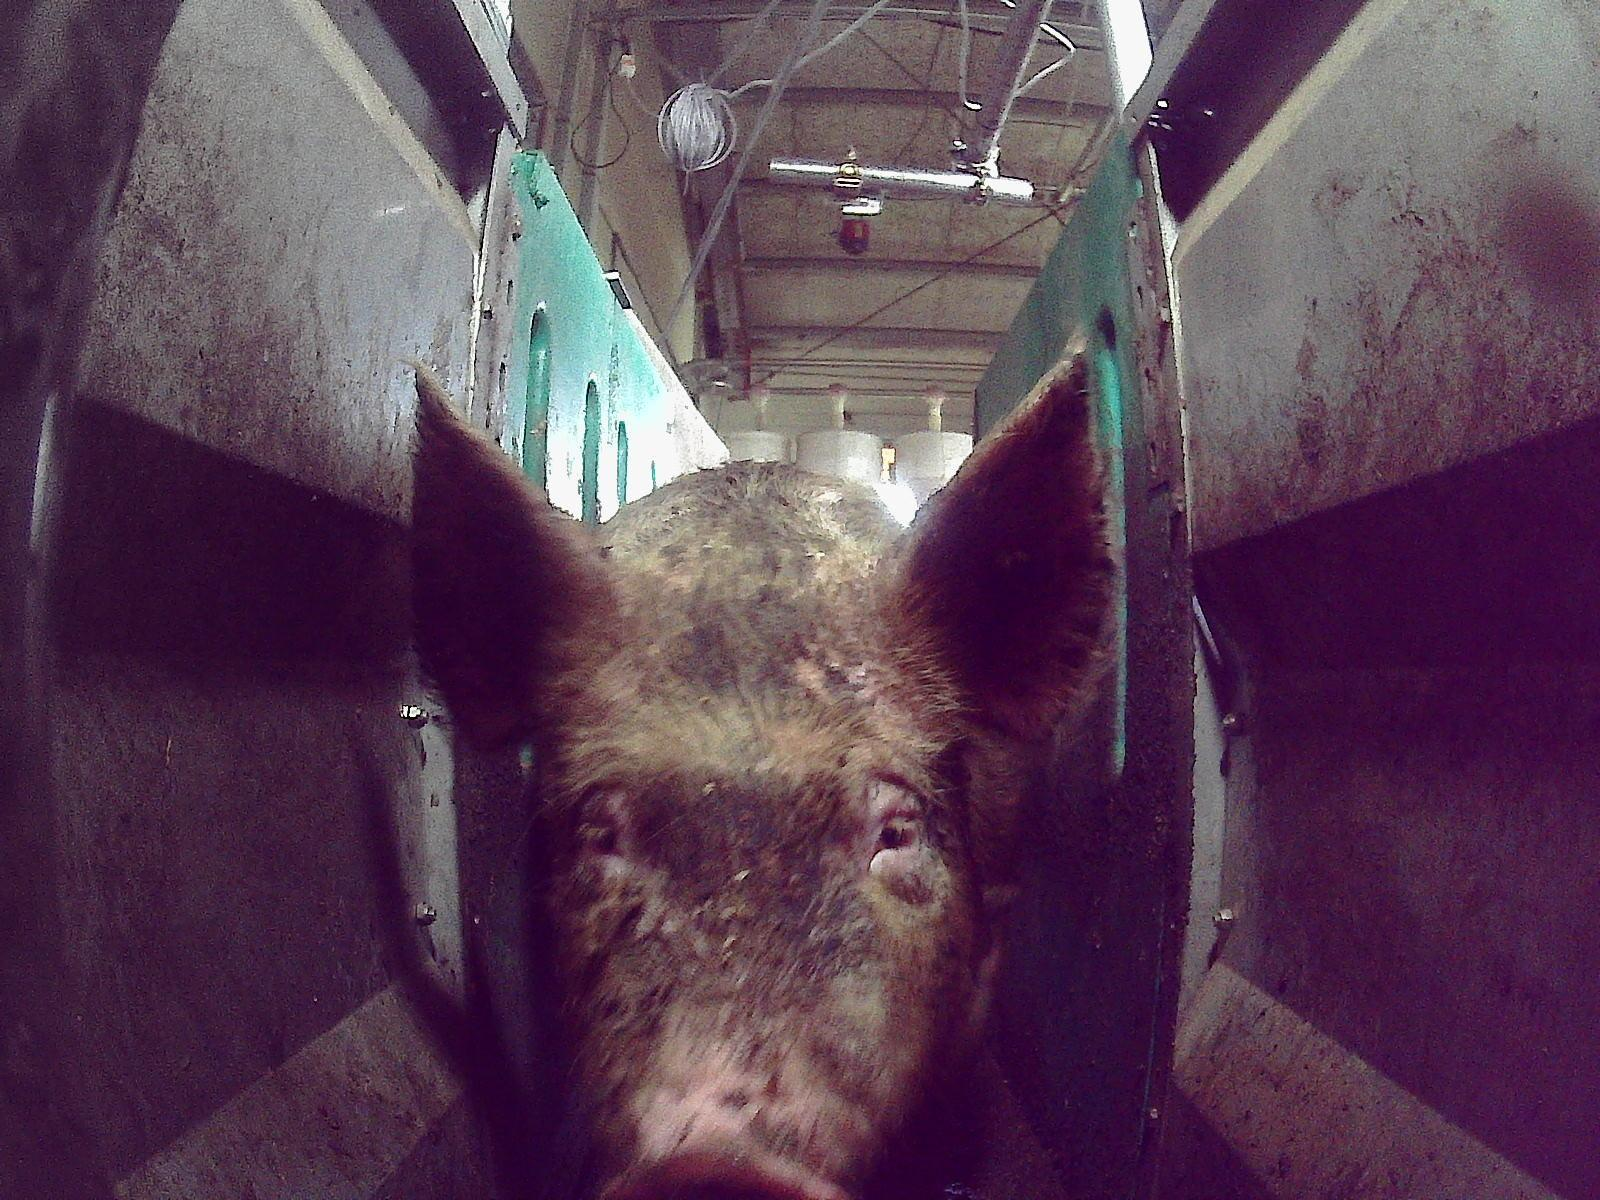Face: (546, 507, 980, 1199)
